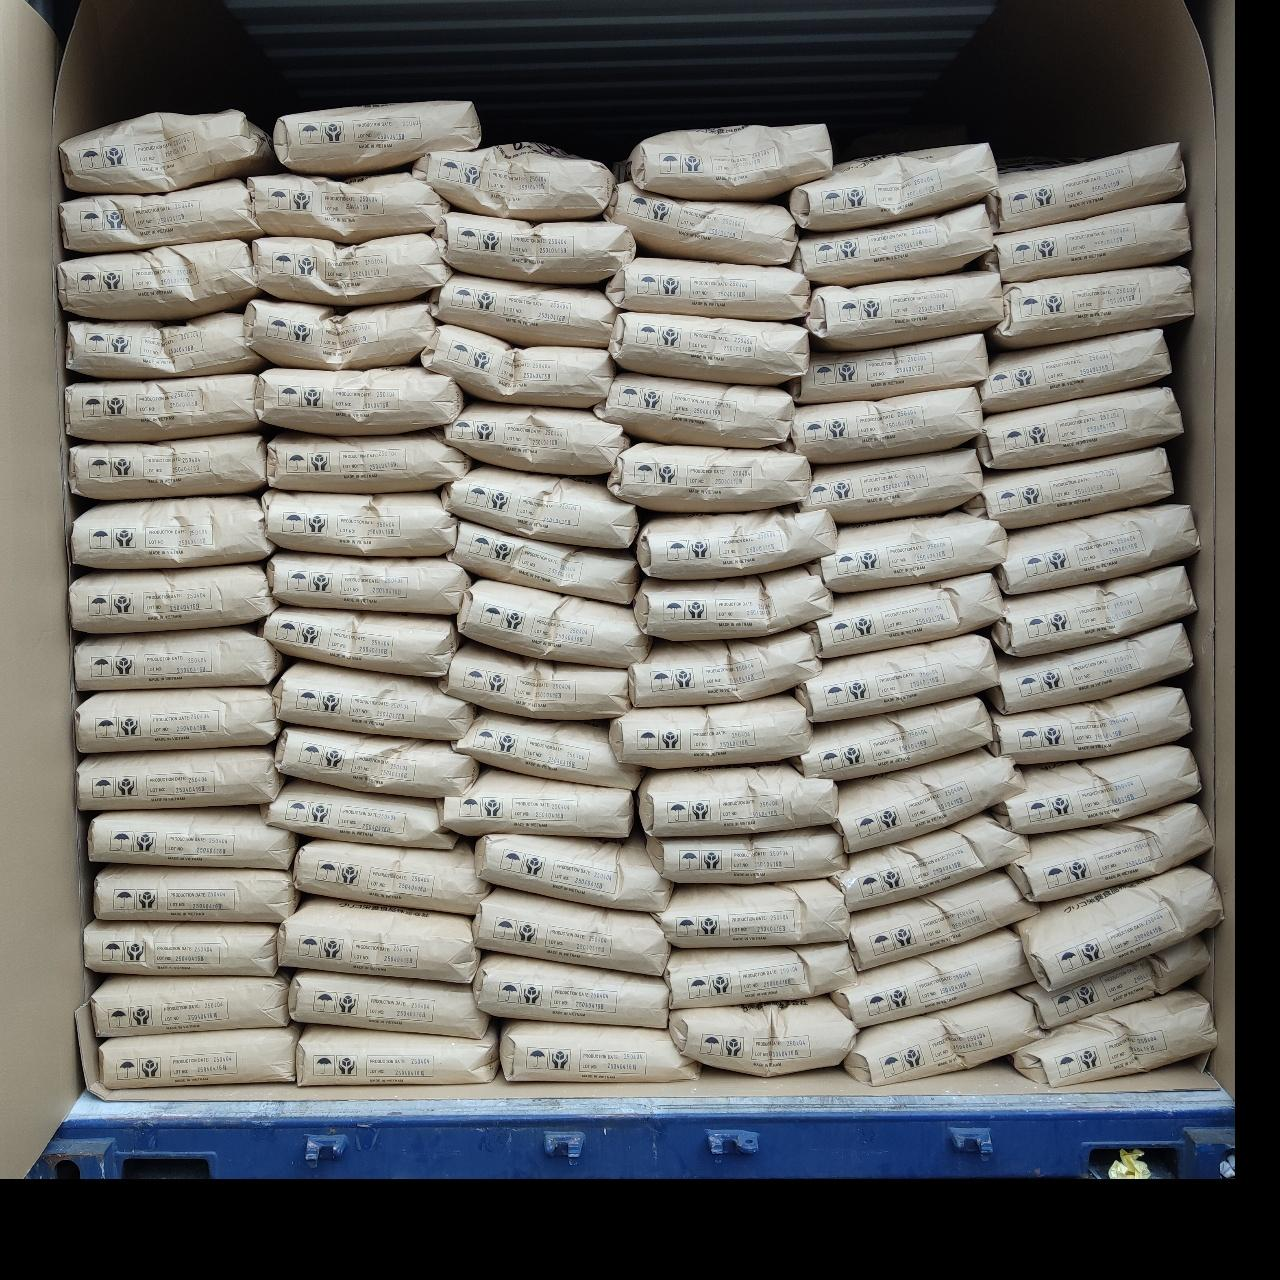sack: (1016, 866, 1223, 989), (1008, 803, 1211, 901), (831, 930, 1033, 1027), (1014, 989, 1216, 1087), (837, 748, 1021, 851), (844, 990, 1042, 1085), (832, 815, 1026, 911), (849, 871, 1034, 971), (993, 566, 1194, 658), (789, 143, 998, 231), (998, 504, 1198, 594), (990, 622, 1191, 712), (59, 110, 272, 193), (998, 745, 1199, 833), (987, 143, 1185, 232), (798, 634, 998, 721), (458, 579, 649, 668), (1020, 937, 1207, 1027), (474, 888, 668, 975), (279, 898, 478, 982), (978, 387, 1182, 469), (969, 447, 1172, 529), (990, 266, 1193, 348), (981, 203, 1189, 282), (810, 572, 1002, 658), (442, 467, 638, 549), (792, 204, 990, 285), (421, 325, 614, 407), (607, 179, 795, 264), (448, 520, 640, 602), (413, 143, 614, 220), (980, 331, 1170, 413), (799, 699, 990, 779), (59, 240, 258, 318), (275, 661, 474, 738), (806, 272, 1001, 350), (994, 686, 1189, 764), (274, 101, 481, 175), (821, 511, 1007, 592), (629, 125, 832, 199), (610, 694, 811, 768), (595, 372, 794, 447), (477, 835, 670, 911), (72, 495, 273, 567), (670, 998, 857, 1076), (629, 629, 818, 707), (61, 179, 261, 252), (636, 764, 837, 837), (452, 713, 640, 790), (433, 212, 635, 284), (294, 840, 486, 915), (256, 366, 463, 435), (791, 387, 982, 462), (635, 567, 831, 640), (275, 727, 477, 797), (252, 233, 450, 305), (610, 312, 808, 383), (440, 644, 628, 719), (477, 954, 668, 1028), (72, 564, 275, 633), (608, 443, 810, 512), (636, 510, 837, 579), (248, 173, 448, 243), (430, 274, 617, 348), (792, 333, 987, 403), (244, 299, 435, 370), (445, 402, 632, 475), (264, 607, 458, 676), (801, 448, 982, 522), (290, 971, 486, 1039), (76, 687, 279, 753), (263, 489, 456, 557), (75, 627, 281, 690), (68, 434, 266, 499), (66, 374, 260, 441), (442, 769, 633, 837), (88, 806, 297, 869), (607, 256, 809, 319), (77, 747, 281, 809), (659, 880, 847, 947), (67, 313, 261, 377), (267, 552, 469, 614), (101, 1024, 298, 1088), (665, 942, 855, 1008), (268, 779, 450, 847), (268, 433, 469, 492), (297, 1026, 497, 1084), (91, 976, 288, 1035), (93, 866, 297, 922), (501, 1021, 696, 1080), (647, 828, 845, 883), (86, 920, 277, 976)
